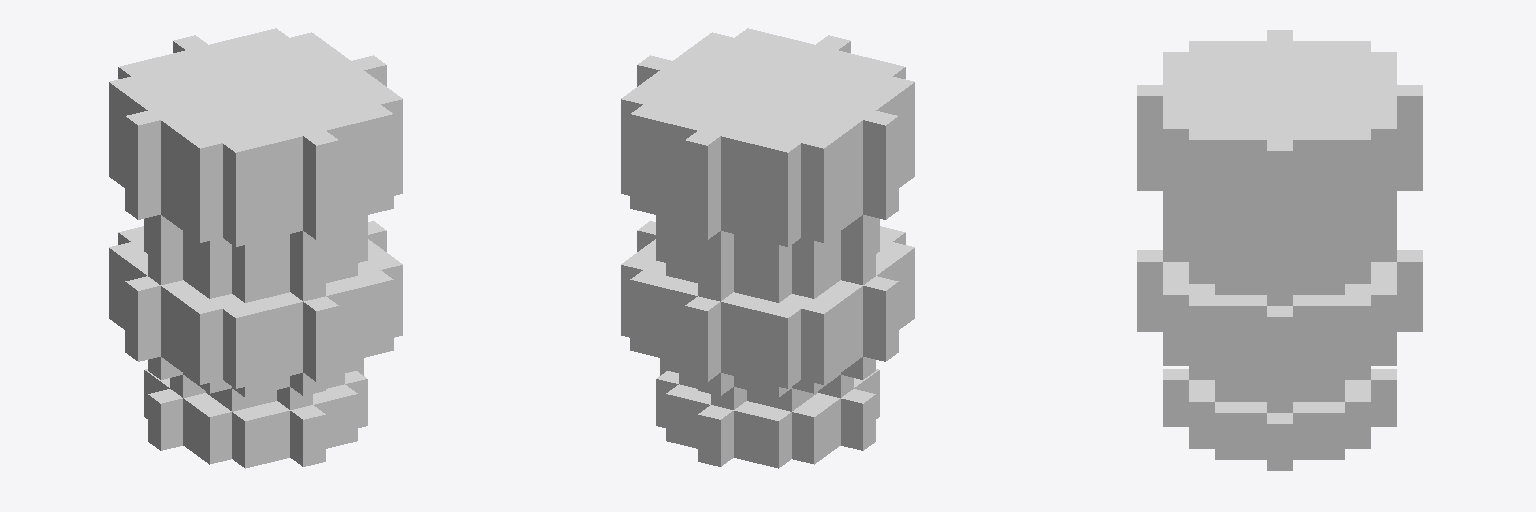
The picture shows the model from 3 angles: view 1: azimuth 30°, elevation 25°; view 2: azimuth 150°, elevation 25°; view 3: azimuth 270°, elevation 25°; orthographic projection.
Size of the model in its own units: 11 by 14 by 11.
1 materials, 1 textured.